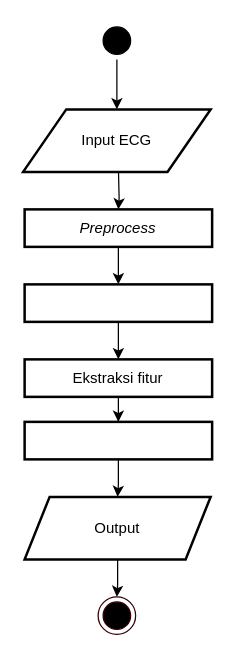
Some shapes in this 235 by 656 pixel diagram are drawn without their labels. The centre of each missing label's shape, as x and y in pixels:
Deteksi R-Peak: the point at 118,302
Prediksi: the point at 118,440
